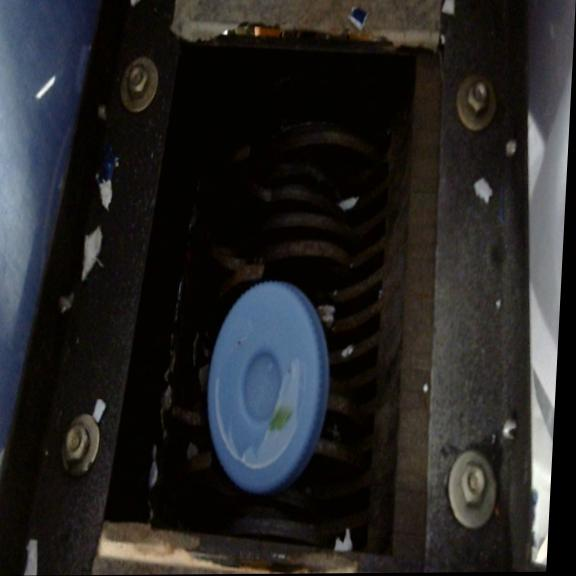Plastik: (170, 284, 351, 503)
